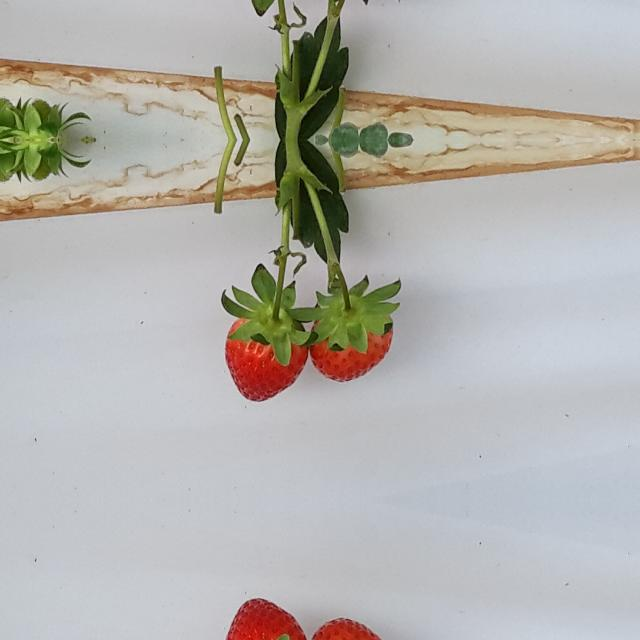Health_100: (224, 315, 310, 399), (312, 294, 391, 382), (223, 601, 310, 640), (311, 617, 390, 640)
